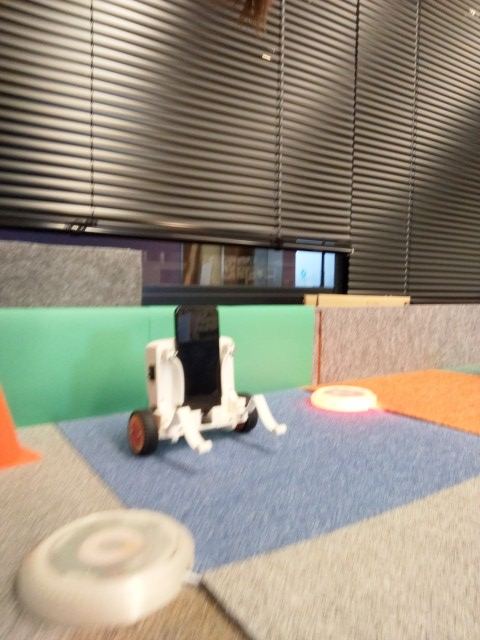f: (125, 297, 291, 465)
o: (16, 510, 197, 628)
r: (305, 379, 381, 416)
